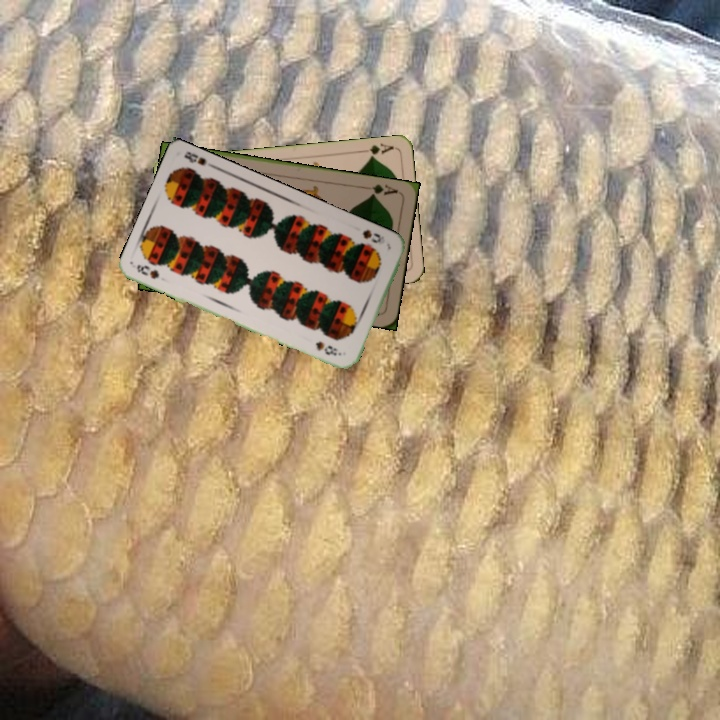GA: (356, 139, 396, 161), (361, 180, 400, 199)
S8: (132, 260, 162, 281), (358, 225, 387, 246)
